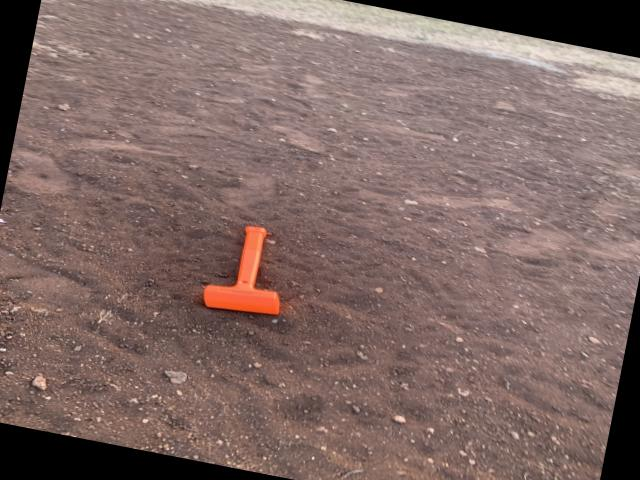hammer: (198, 218, 294, 320)
